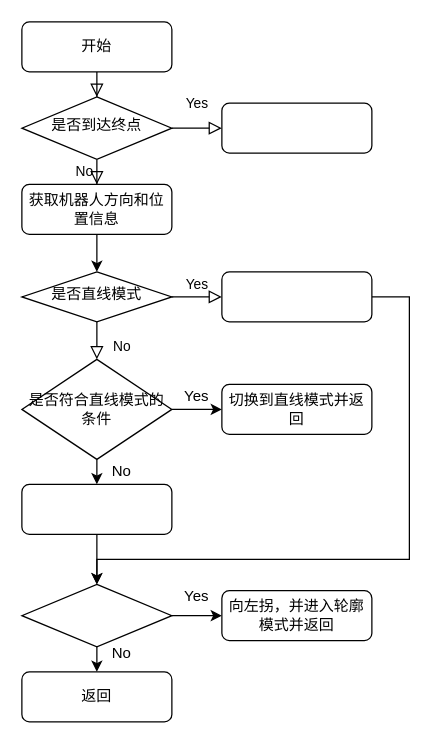
Some shapes in this 441 by 744 pixel diagram are drawn without their labels. The centre of each missing label's shape, as x and y in pixels:
是否遇到碰撞: pixel 96 615
设置角速度右拐， 进入轮廓模式: pixel 96 508
设置角速度向终点方向偏转: pixel 296 296
输出统计数据并返回: pixel 296 127
